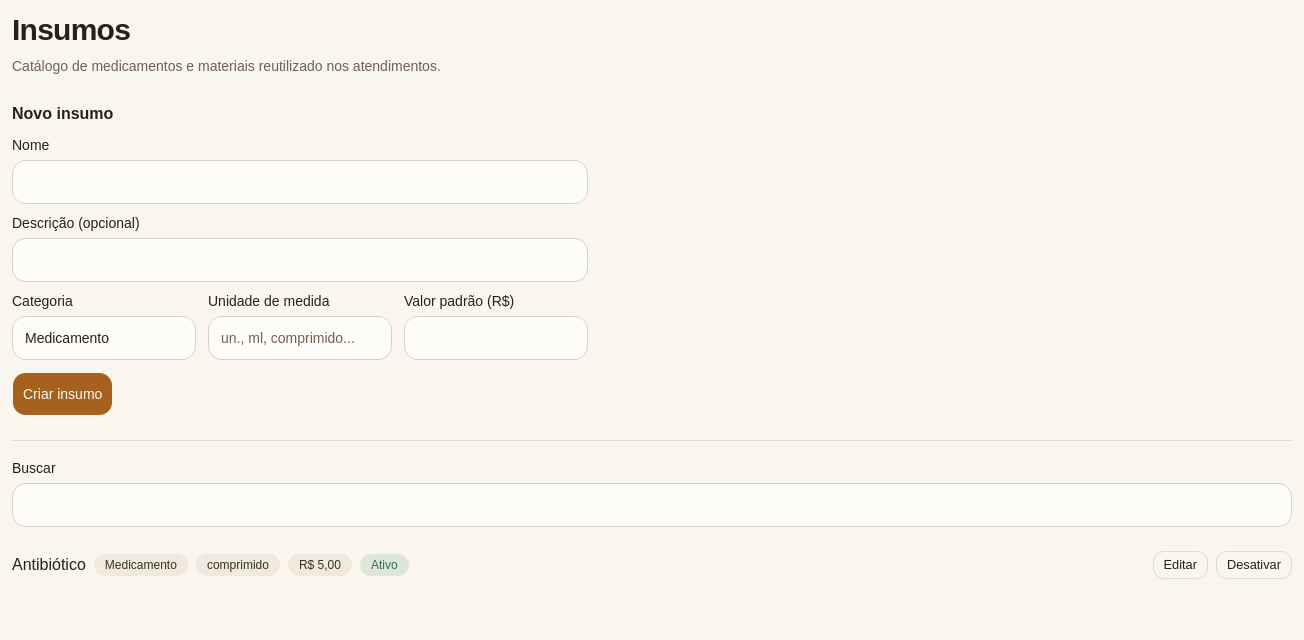
Test: SuppliesCatalogPage › bloqueia criação sem nome
The image size is (1304, 640).
Type "10" into the field labelled "Valor padrão (R$)".
click(496, 338); type("10")  # box [404,316,588,360]
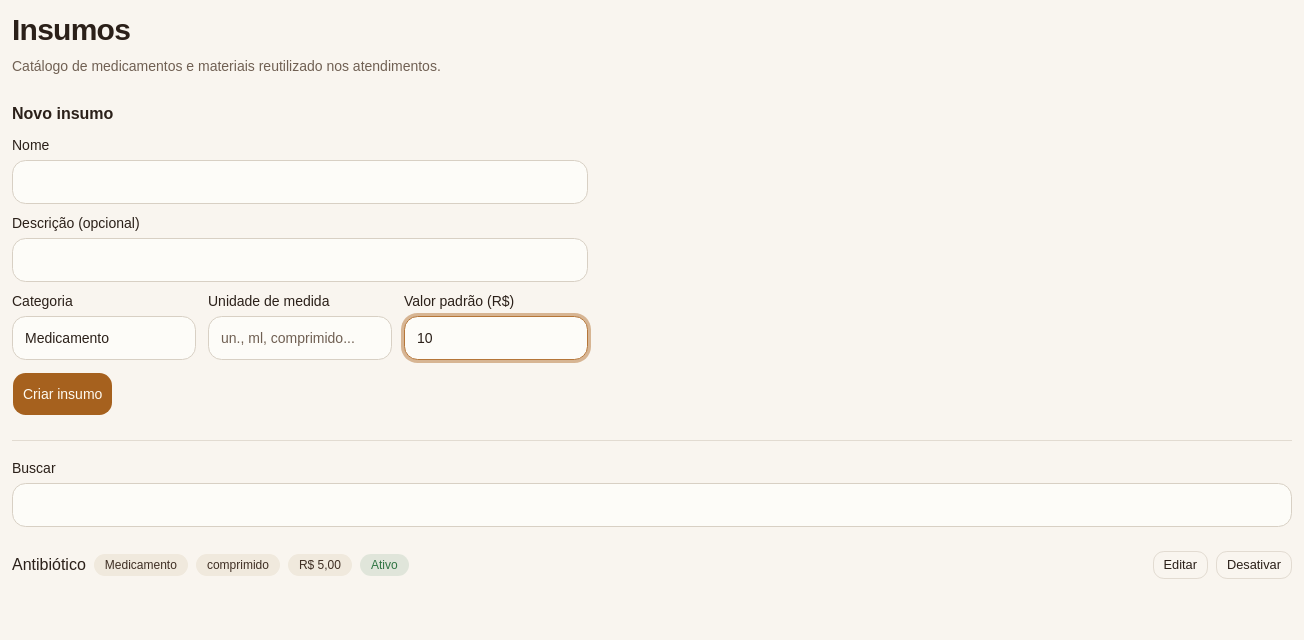
Click the button "Criar insumo".
click(63, 394)  # box [12,372,113,416]
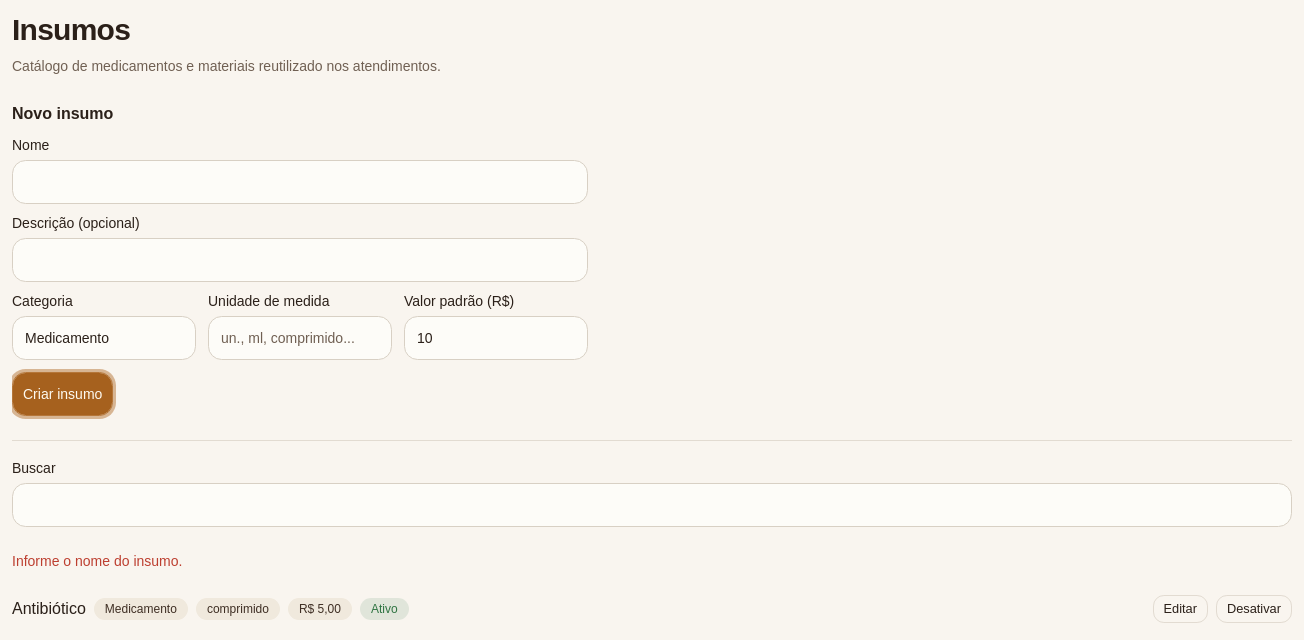
Check: the text "Informe o nome do insumo." is shown, box [12,553,182,569]
